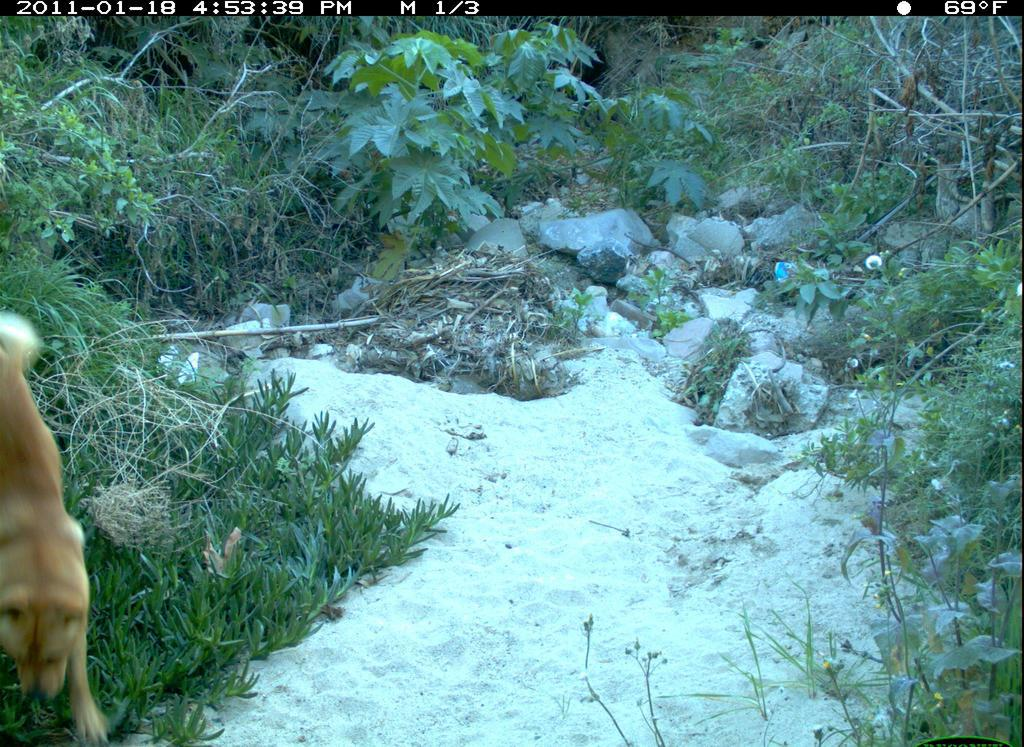dog: (18, 356, 109, 747)
